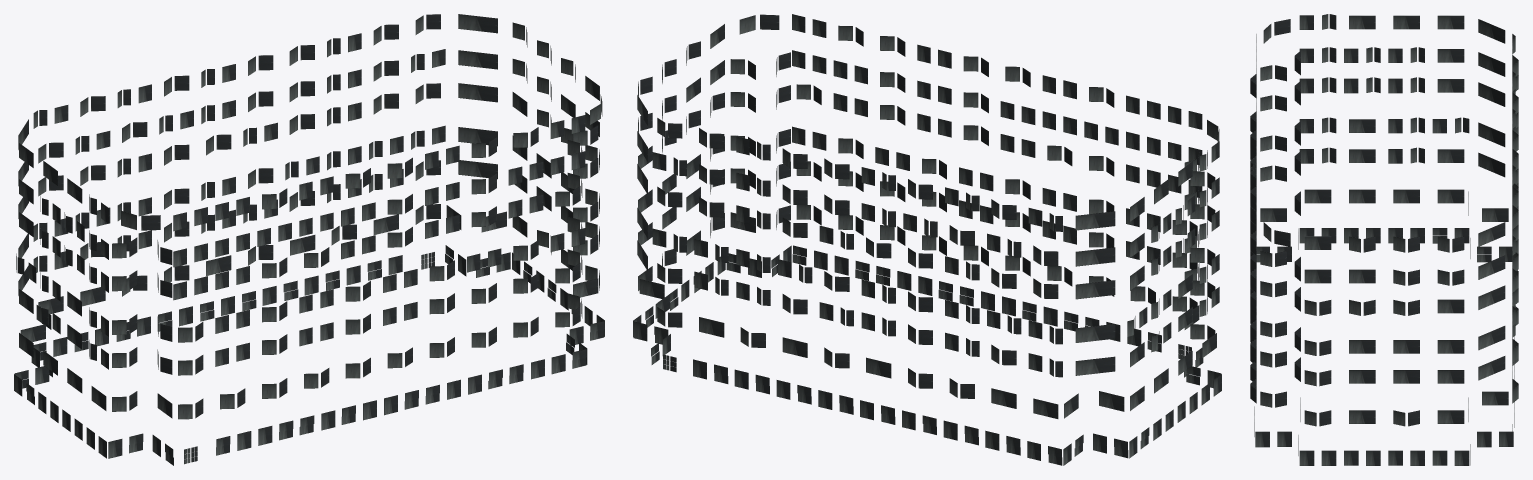
File: TRANS_Building_7stores_LargeHouse.obj
The picture shows the model from 3 angles, left to right: view 1: azimuth 30°, elevation 25°; view 2: azimuth 150°, elevation 25°; view 3: azimuth 270°, elevation 25°; orthographic projection. The views are drawn at different scales.
Parts seen in each view (by area): view 1: TRANS_Building_7stores_LargeHouse; view 2: TRANS_Building_7stores_LargeHouse; view 3: TRANS_Building_7stores_LargeHouse.
Part boxes in pixels (x1,y1,x2,y2): TRANS_Building_7stores_LargeHouse: (14, 14, 604, 465); TRANS_Building_7stores_LargeHouse: (633, 14, 1221, 465); TRANS_Building_7stores_LargeHouse: (1250, 14, 1518, 465).
Size of the model in its own units: 15.73 by 7.52 by 7.94.
